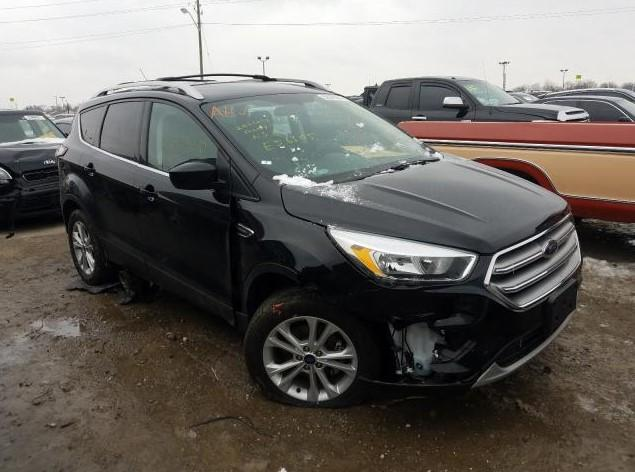Back-bumper: (60, 194, 103, 238)
Back-door: (78, 97, 146, 259)
Back-wheel: (68, 209, 111, 285)
Back-window: (101, 102, 145, 159), (81, 106, 106, 147)
Fender: (229, 173, 370, 313)
Front-bumper: (242, 255, 578, 396)
Front-door: (134, 97, 232, 307)
Front-wheel: (244, 289, 373, 409)
Front-window: (148, 103, 217, 172)
Grille: (484, 213, 583, 367)
Headlight: (327, 225, 480, 286)
Hood: (282, 152, 571, 255)
License-plate: (545, 277, 578, 336)
Mirror: (170, 148, 232, 204)
Quarter-panel: (58, 135, 102, 235)
Rocker-panel: (101, 237, 251, 330)
Roof: (80, 73, 333, 110)
Tail-light: (55, 144, 68, 156)
Windshield: (201, 93, 443, 187)
